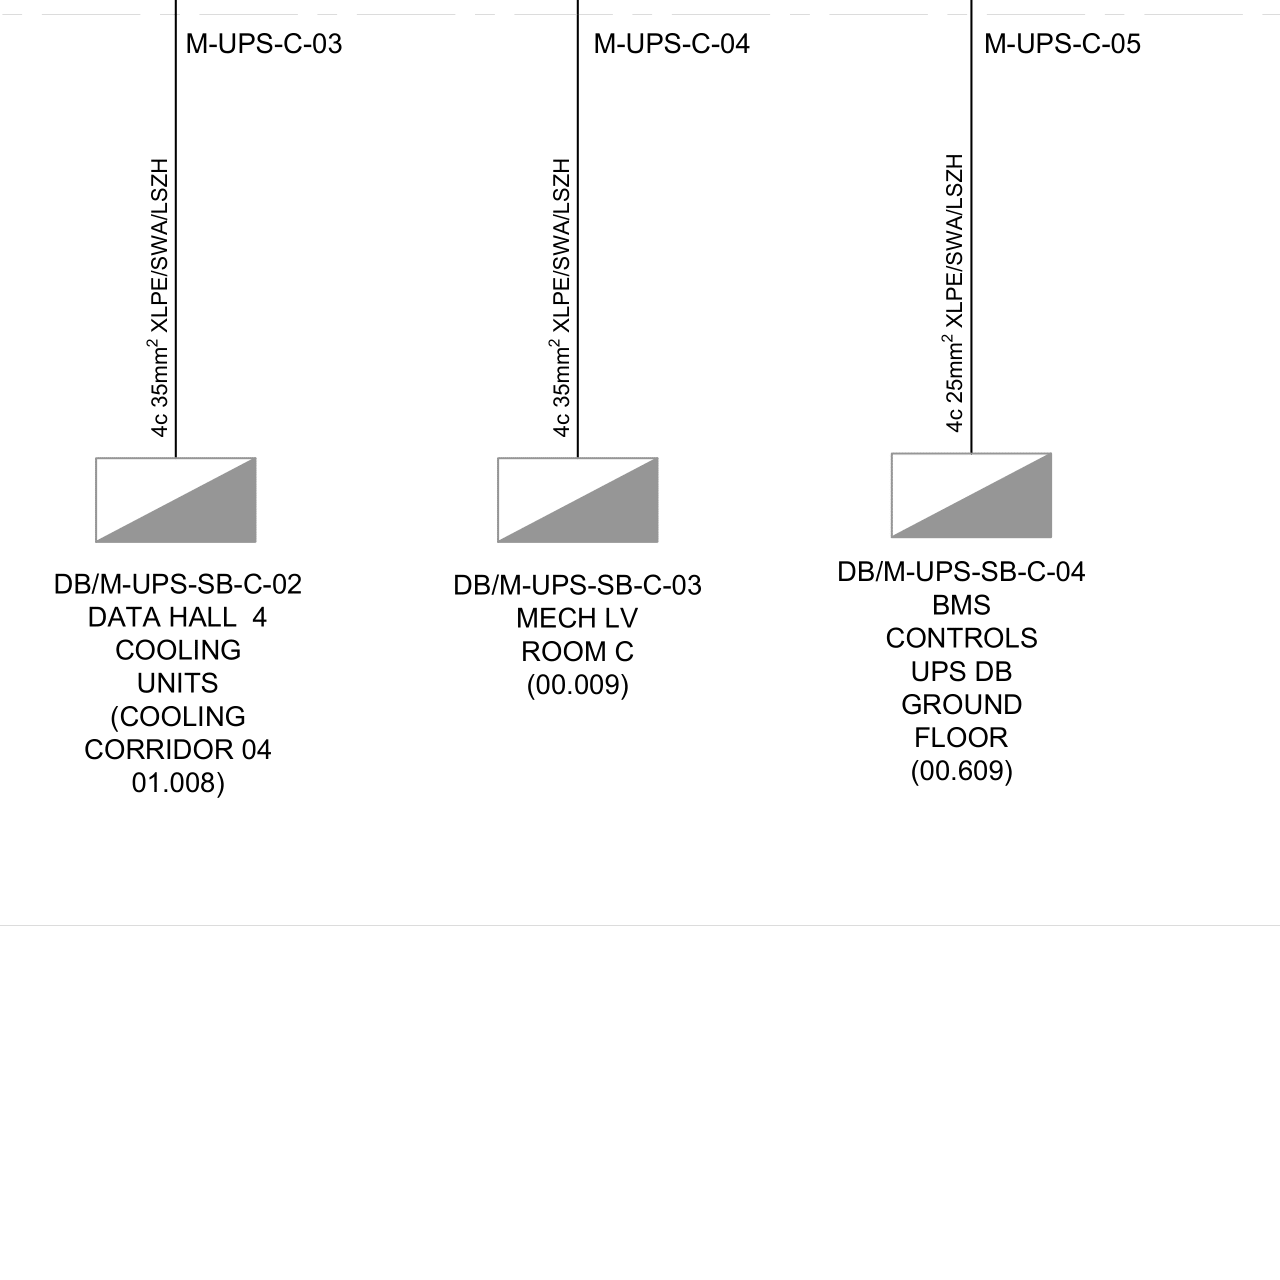Distribution Board: (80, 445, 272, 554), (482, 445, 666, 551), (878, 444, 1061, 546)
